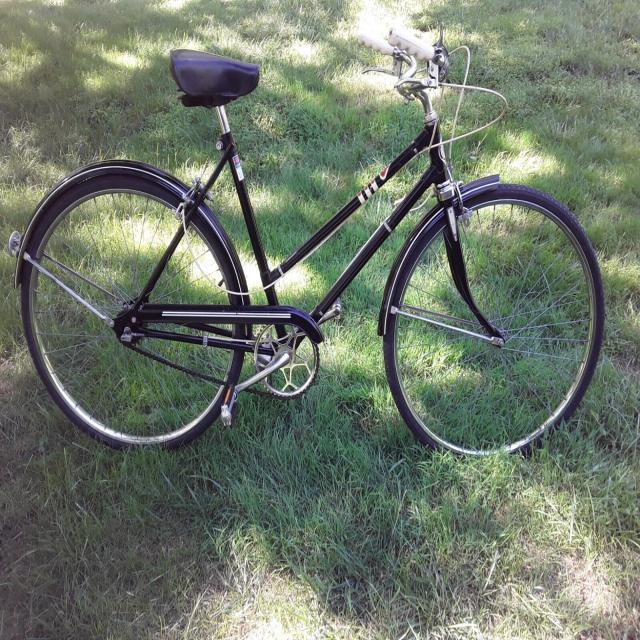urban-bike: (9, 19, 607, 456)
